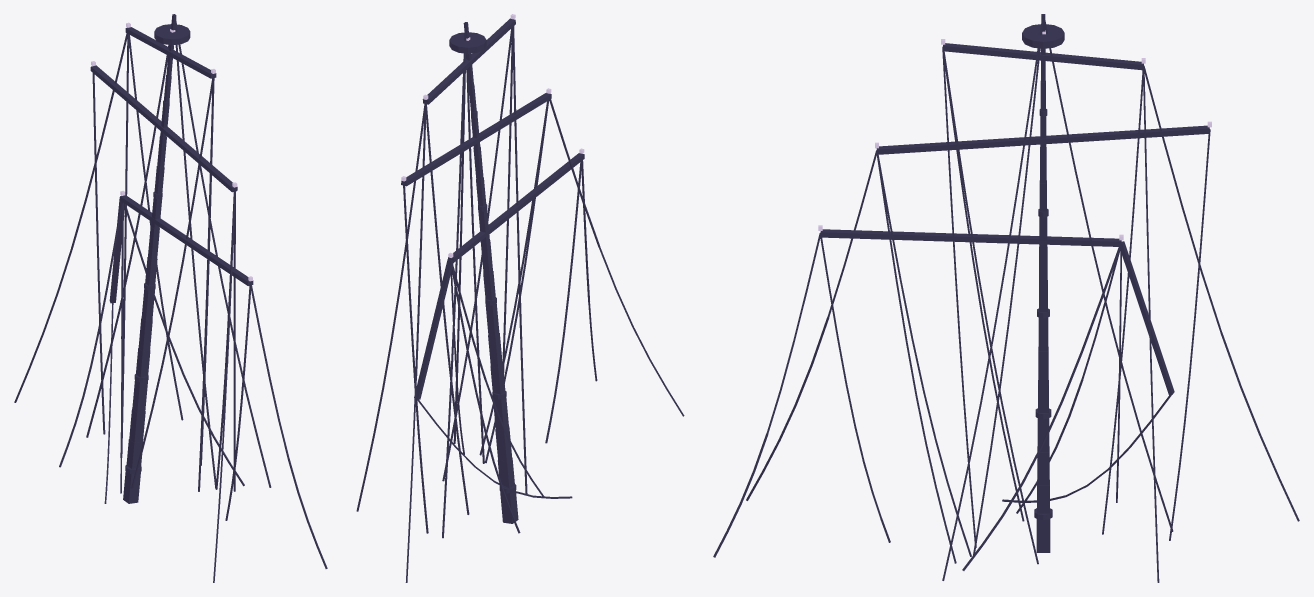
The model's file is drowned_mast.glb.
3 views of the same model, side by side, from view 1: azimuth 30°, elevation 25°; view 2: azimuth 150°, elevation 25°; view 3: azimuth 270°, elevation 25° (orthographic). The views are drawn at different scales.
Parts seen in each view (by area): view 1: drowned_mast; view 2: drowned_mast; view 3: drowned_mast.
Boxes of the visible parts, <box> form: drowned_mast: <box>14,14,327,582</box>; drowned_mast: <box>356,14,684,582</box>; drowned_mast: <box>713,14,1299,582</box>.
Size of the model in its own units: 1015 by 3190 by 3025.
